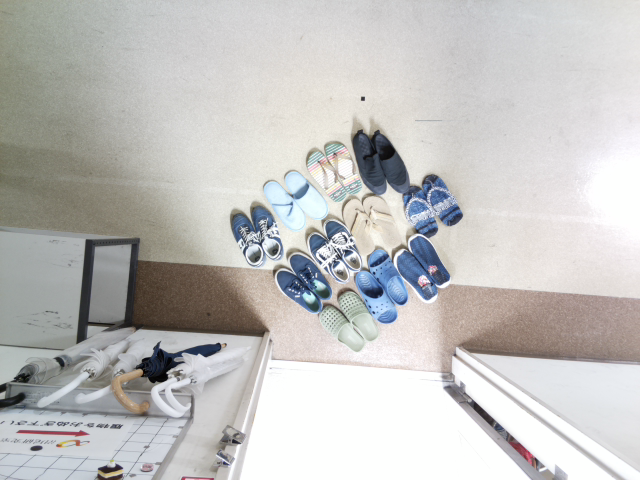Copy of Copy of Copy of Copy of Copy of Copy of Copy of Copy of Copy of Copy of: (392, 242, 441, 308), (405, 229, 454, 294), (363, 245, 411, 311), (354, 263, 402, 329), (334, 282, 382, 348), (304, 226, 354, 289), (318, 298, 366, 363), (320, 213, 367, 275), (395, 181, 440, 245), (337, 193, 381, 258), (362, 194, 406, 258), (421, 169, 464, 231)
Copy of Copy of Copy of Copy of Copy of Copy of Copy of Copy of Copy of shoe: (370, 127, 412, 196)
Copy of Copy of Copy of Copy of Copy of Copy of Copy of Copy of shoe: (347, 129, 387, 199)
Copy of Copy of Copy of Copy of Copy of Copy of Copy of shoe: (319, 136, 363, 198)
Copy of Copy of Copy of Copy of Copy of Copy of shoe: (299, 149, 351, 206)
Copy of Copy of Copy of Copy of Copy of shoe: (278, 161, 331, 221)
Copy of Copy of Copy of Copy of shoe: (257, 172, 308, 233)
Copy of Copy of Copy of shoe: (282, 248, 335, 304)
Copy of Copy of shoe: (271, 262, 324, 317)
Copy of shoe: (242, 197, 285, 262)
shoe: (223, 205, 269, 271)
